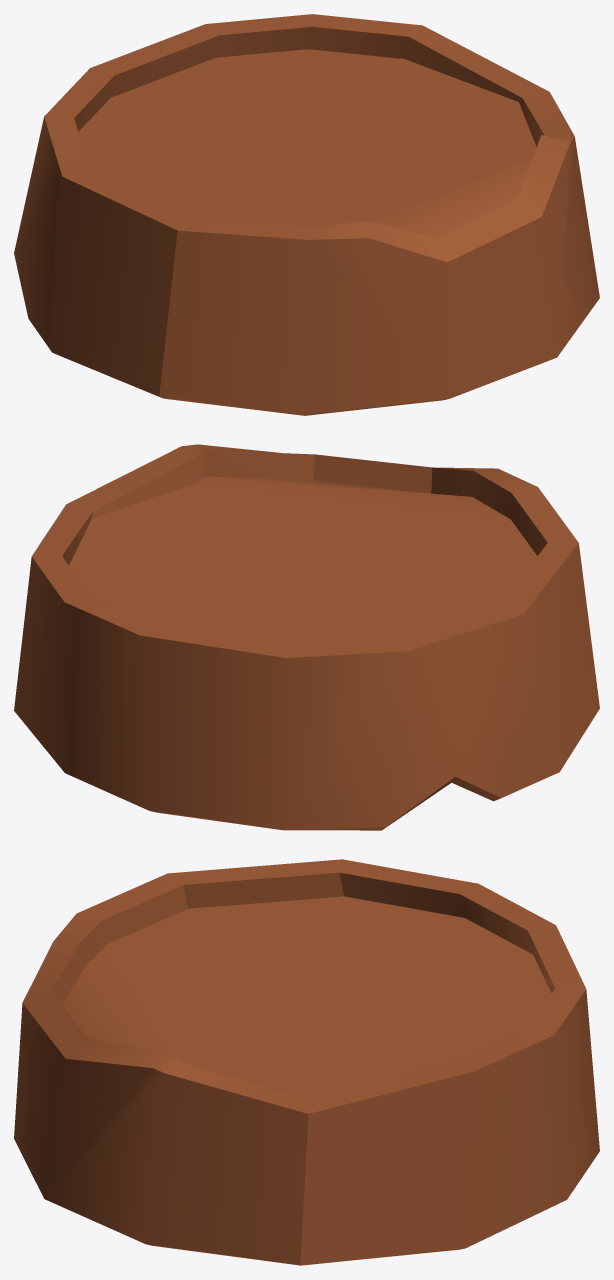
Rendered from log_cut.fbx.
The picture shows the model from 3 angles, top to bottom: view 1: azimuth 30°, elevation 25°; view 2: azimuth 150°, elevation 25°; view 3: azimuth 270°, elevation 25°; orthographic projection. The views are drawn at different scales.
Parts seen in each view (by area): view 1: log_cut; view 2: log_cut; view 3: log_cut.
Part boxes in pixels (left/top/right/bottom): log_cut: left=14, top=14, right=599, bottom=415; log_cut: left=14, top=444, right=599, bottom=830; log_cut: left=14, top=859, right=599, bottom=1265.
Bounding box in the file's own units: 0.7672 × 0.2546 × 0.7537.
